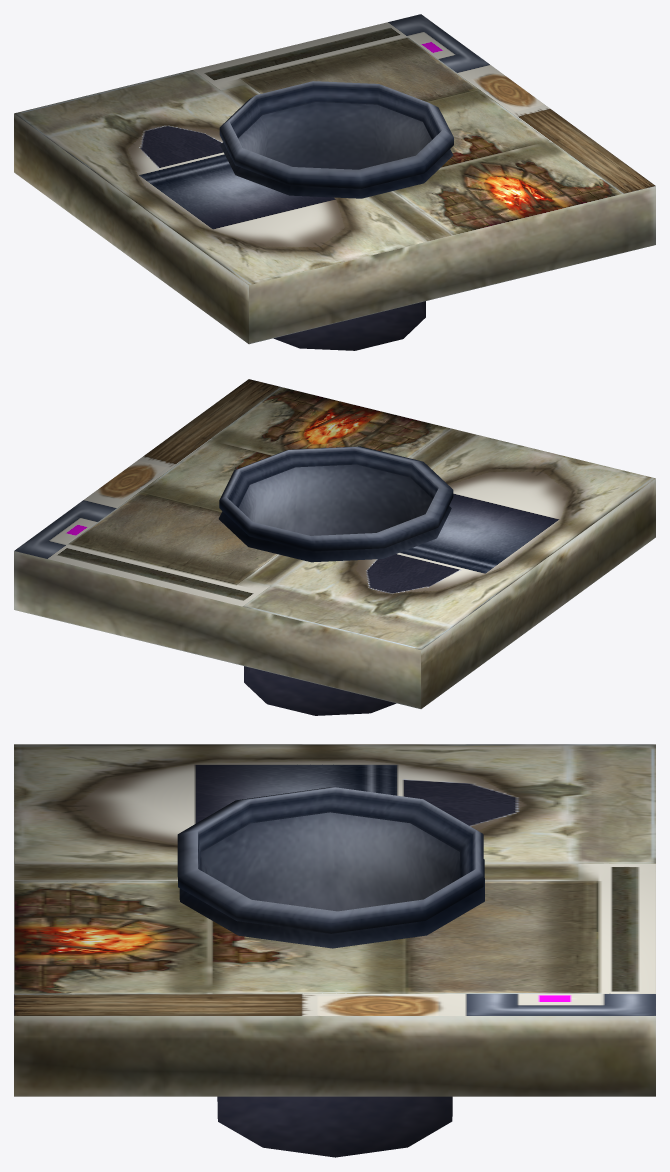
Rendered from a_SWAsinkhole.glb.
The picture shows the model from 3 angles, top to bottom: view 1: azimuth 30°, elevation 25°; view 2: azimuth 150°, elevation 25°; view 3: azimuth 270°, elevation 25°; orthographic projection. The views are drawn at different scales.
Visible parts, largest first — view 1: a_SWAsinkhole; view 2: a_SWAsinkhole; view 3: a_SWAsinkhole.
Part boxes in pixels (x1,y1,x2,y2): a_SWAsinkhole: (14,14,655,350); a_SWAsinkhole: (14,379,655,715); a_SWAsinkhole: (14,744,655,1157).
Size of the model in its own units: 3 by 1.32 by 3.
Materials: 1 (1 with a texture image).
